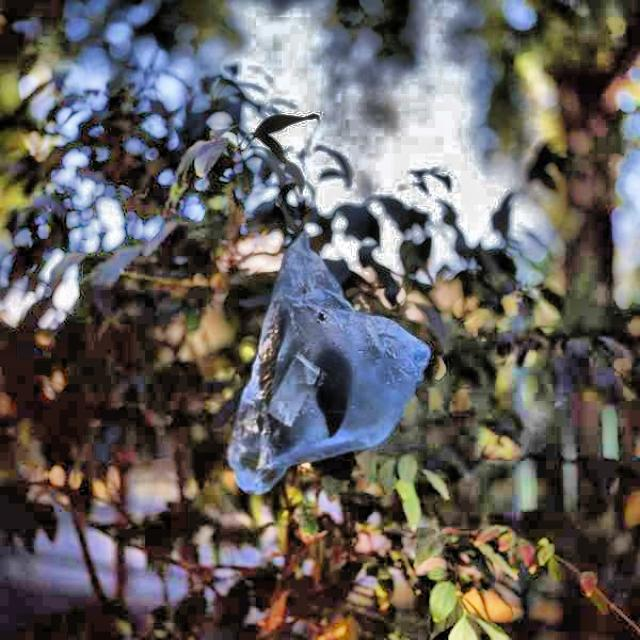Plastic: (210, 226, 448, 514)
